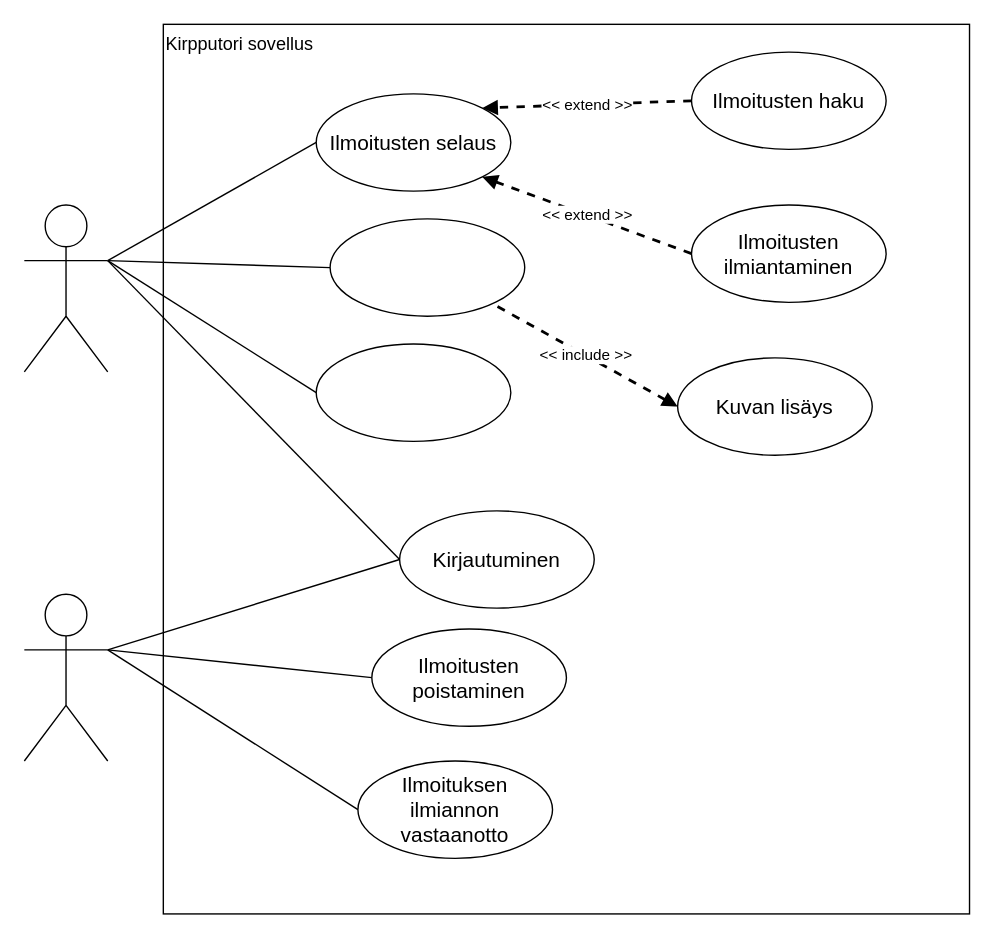
Image size: 994x938. Some labels were removed from this diagram. The shapes that lost their labels are listed below. From the top down, each one's box as (x1, y1, x2, y2) in pixels, then its label:
(329, 218, 525, 316): Ilmoitusten lisääminen
(23, 204, 108, 372): Käyttäjä
(315, 343, 511, 441): Rekisteröityminen
(23, 593, 108, 761): Ylläpitäjä
